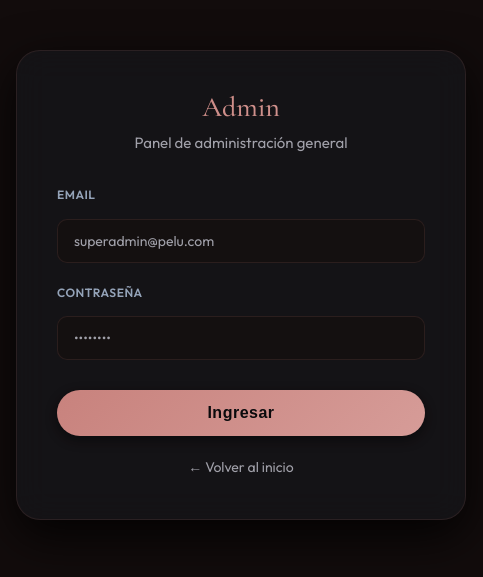
AdminLogin › shows error on failed login
The image size is (483, 577).
Type "admin@test.com" into the field with placeholder "superadmin@pelu.com" at x=241, y=241, box [57,219,425,263]
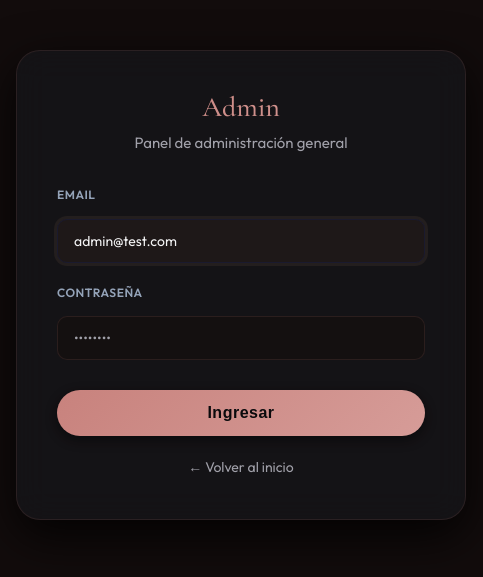
Type "wrong" into the password field with placeholder "••••••••" at x=241, y=338, box [57,316,425,360]
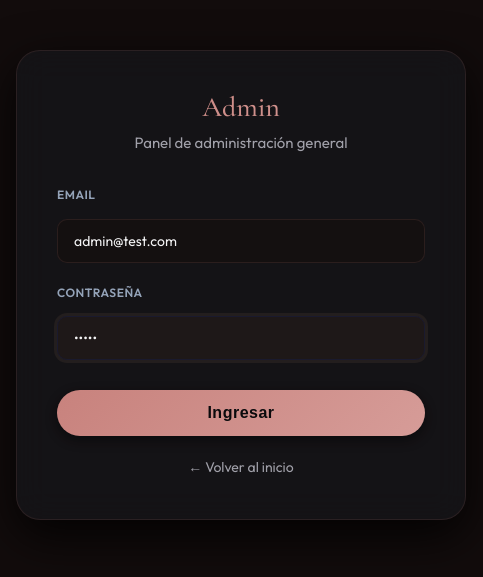
Click the button "Ingresar" at x=241, y=414, box [57,390,425,436]
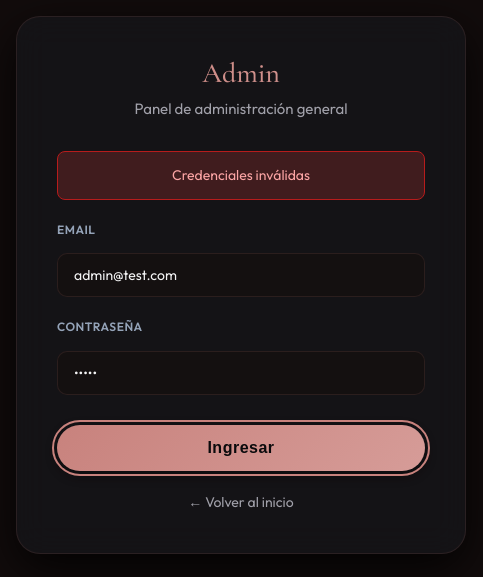
Expected: the text "Credenciales inválidas" is shown, [57,151,425,200]
